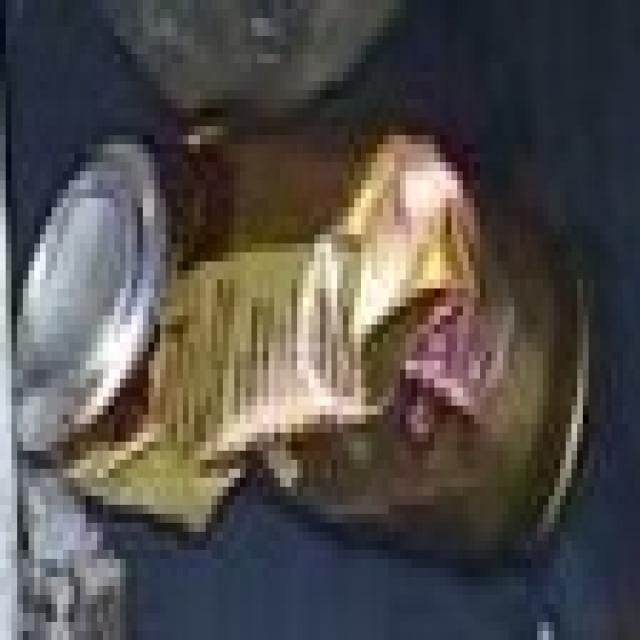litter: (1, 77, 614, 601)
